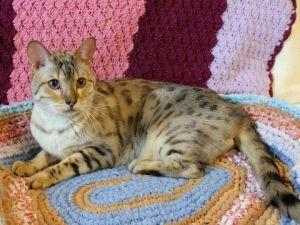bengal: (25, 32, 108, 124)
